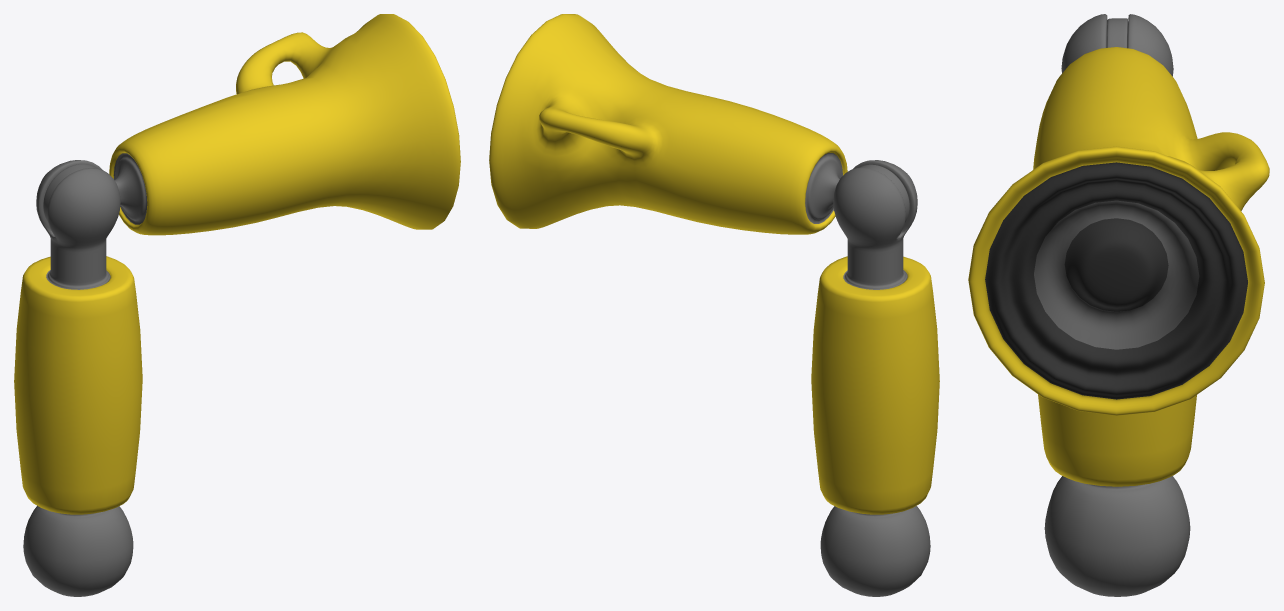
File: SubArmRepelDES.fbx
3 renders of one model, left to right at view 1: azimuth 30°, elevation 25°; view 2: azimuth 150°, elevation 25°; view 3: azimuth 270°, elevation 25°, orthographic. The views are drawn at different scales.
Parts seen in each view (by area): view 1: Lower Arm, Upper Arm; view 2: Lower Arm, Upper Arm; view 3: Lower Arm, Upper Arm.
Boxes of the visible parts, left/top/right/bottom form: Lower Arm: left=43, top=14, right=460, bottom=235; Upper Arm: left=14, top=160, right=142, bottom=596; Lower Arm: left=489, top=14, right=909, bottom=234; Upper Arm: left=811, top=160, right=939, bottom=596; Lower Arm: left=968, top=18, right=1269, bottom=415; Upper Arm: left=1038, top=14, right=1196, bottom=596.
Size of the model in its own units: 185 by 223 by 92.88.
